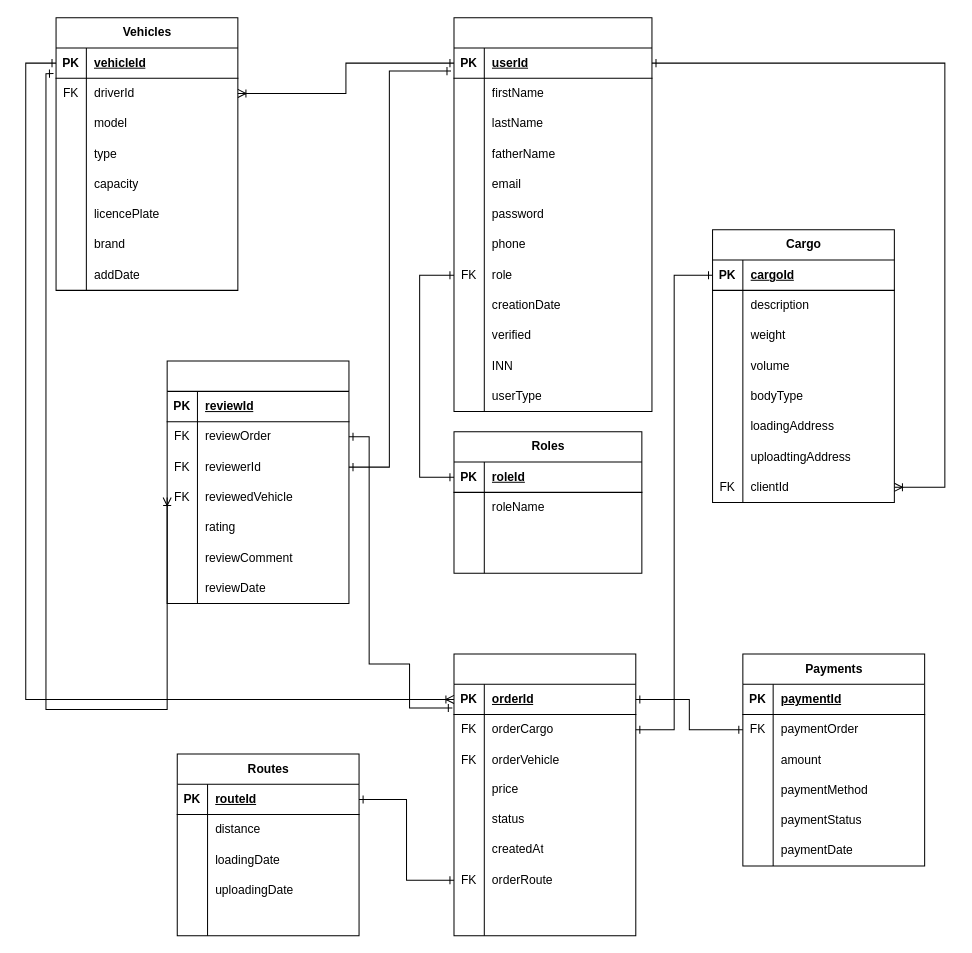
Image size: 972x953. Some labels were removed from this diagram. The shapes that lost their labels are listed below. From the top down, each one's box as (x1, y1, x2, y2) in pixels, then its label:
(453, 17, 652, 412): Users
(166, 360, 349, 603): Reviews
(453, 653, 636, 936): Orders
